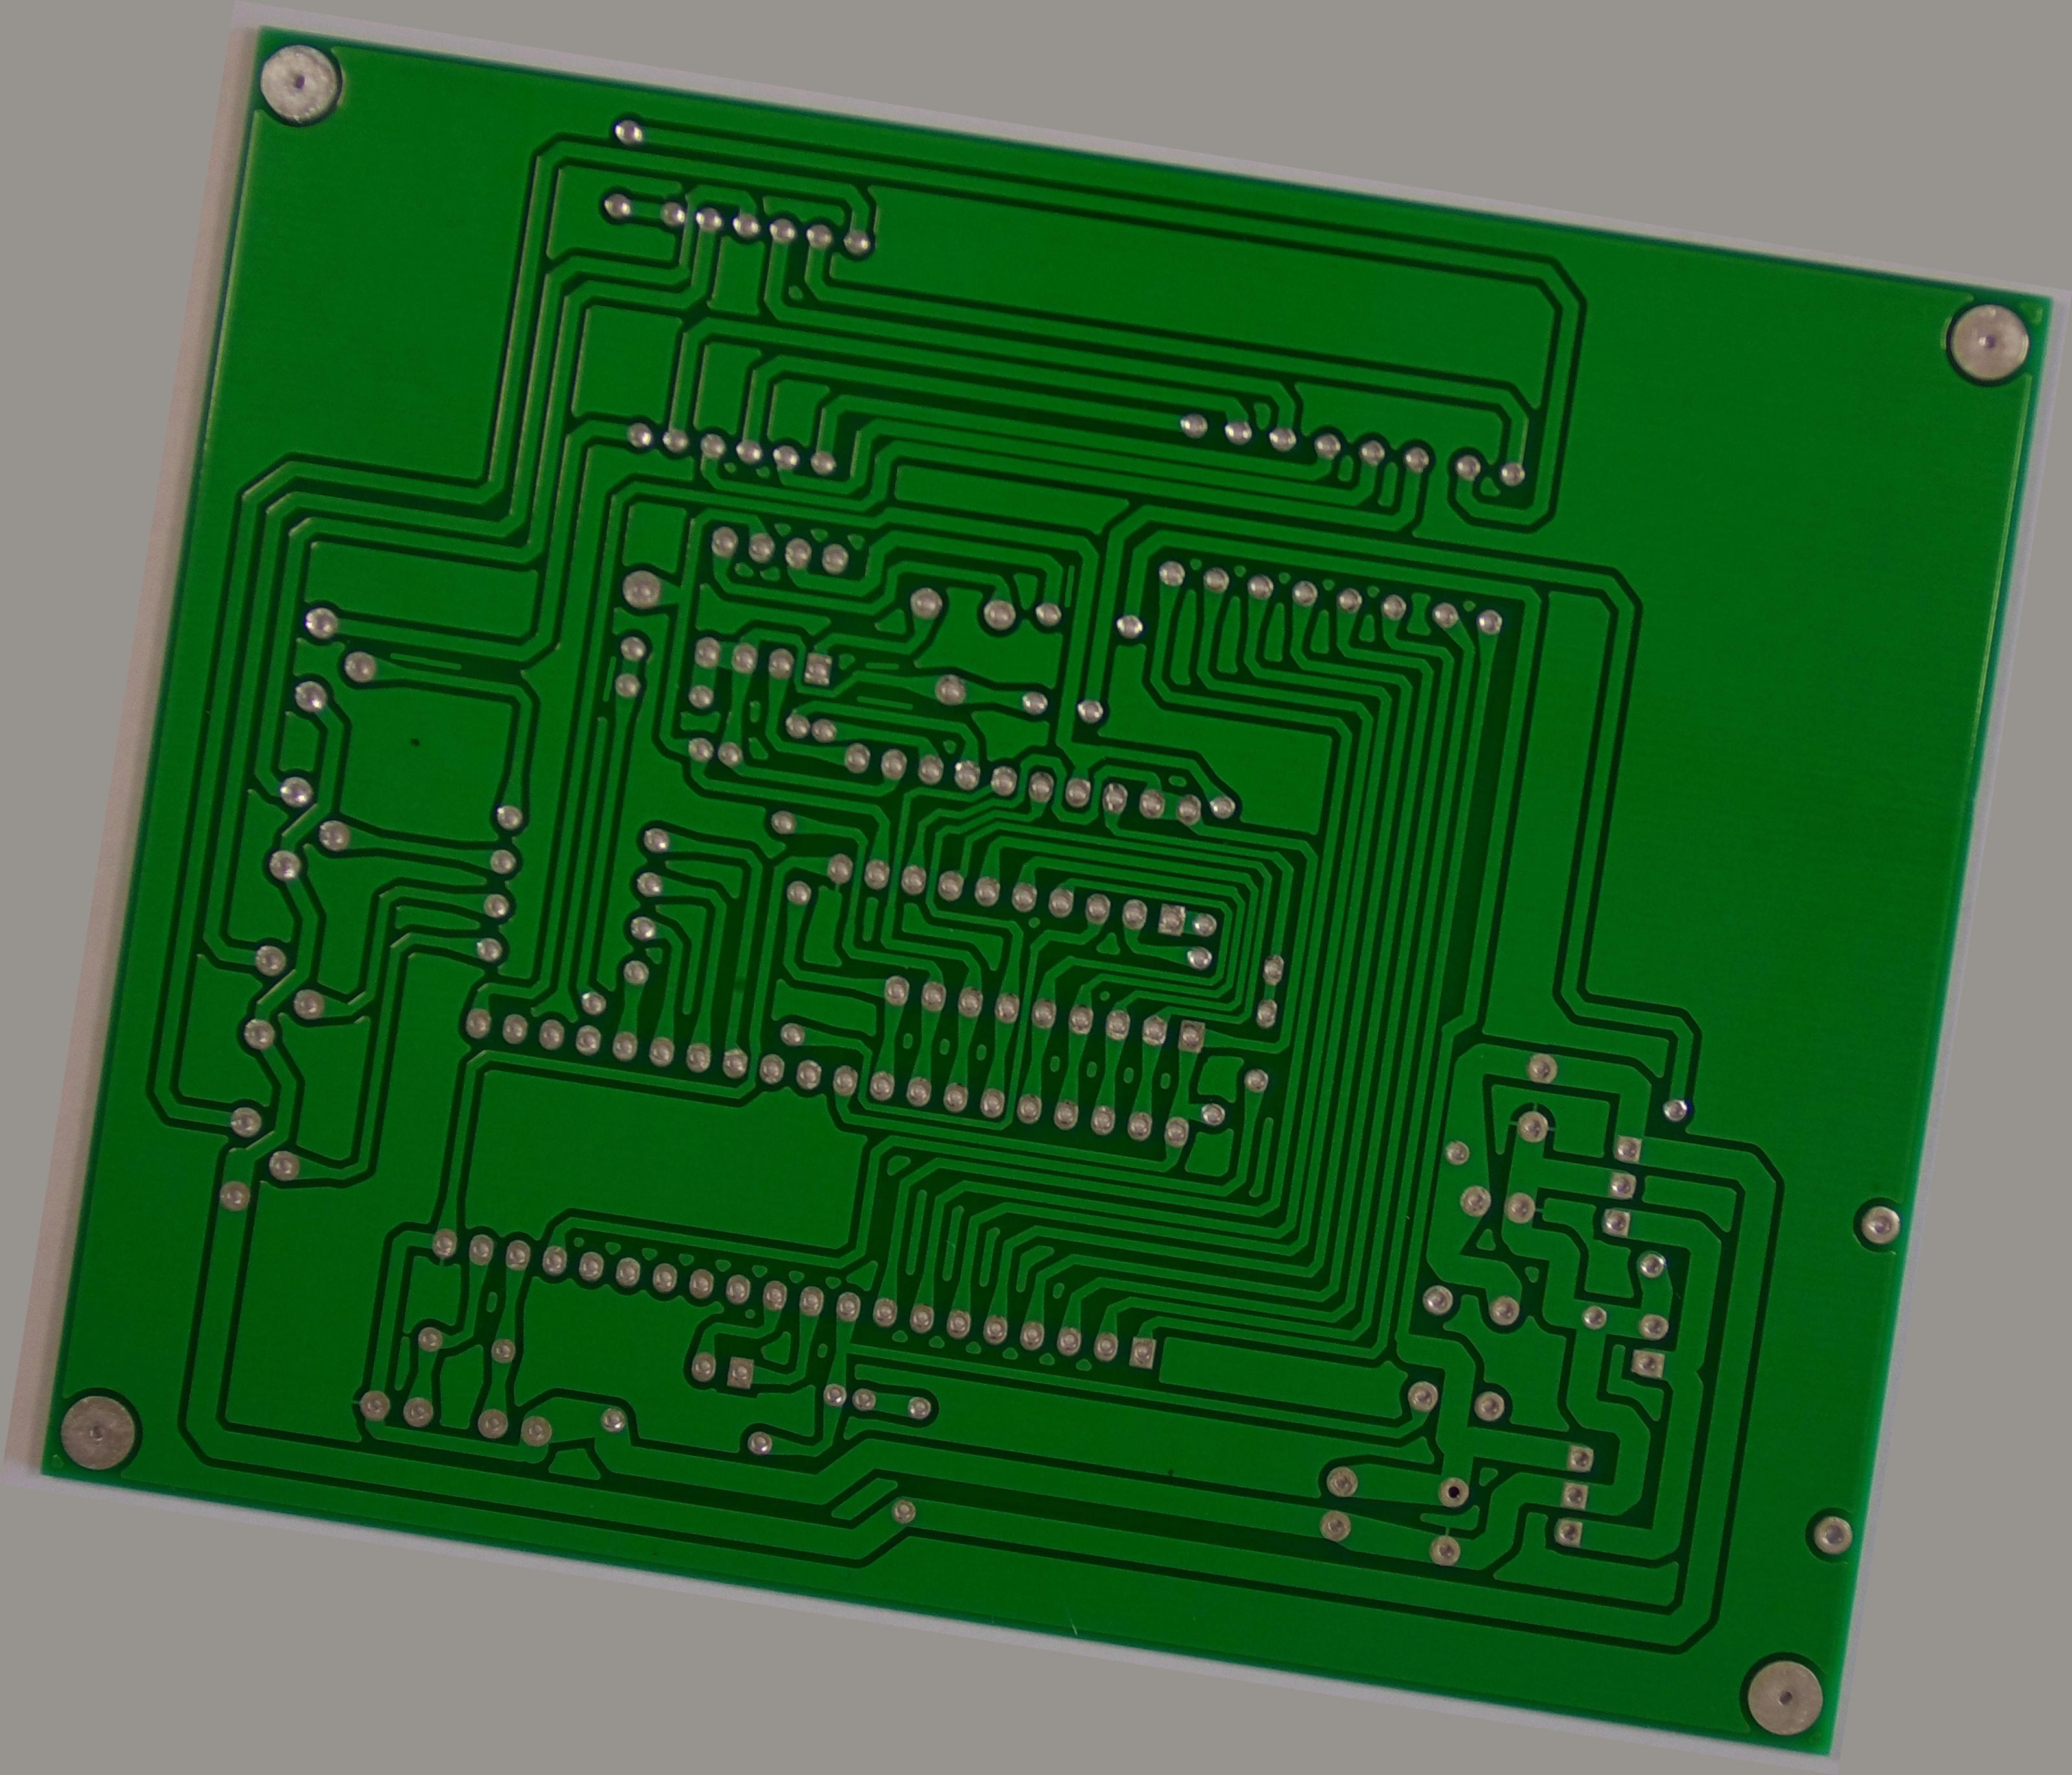spurious_copper: (275, 717, 371, 752), (516, 685, 546, 755), (799, 687, 873, 713), (1005, 495, 1035, 560), (803, 644, 852, 671)
